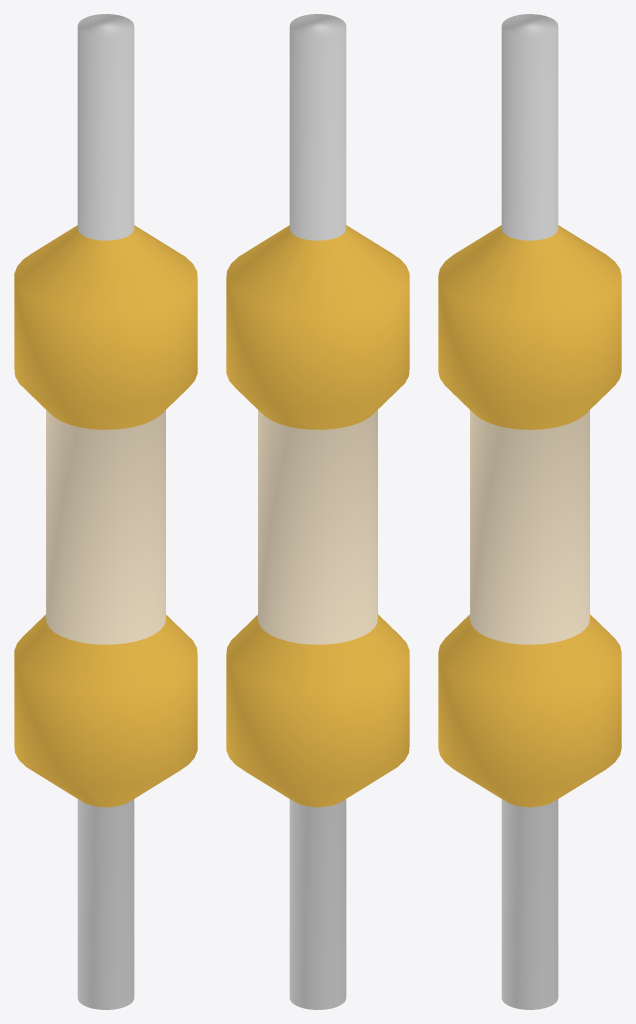
Rendered from resistencia.gltf.
The picture shows the model from 3 angles, left to right: view 1: azimuth 30°, elevation 25°; view 2: azimuth 150°, elevation 25°; view 3: azimuth 270°, elevation 25°; orthographic projection.
Visible parts, largest first — view 1: Cylinder; view 2: Cylinder; view 3: Cylinder.
Boxes of the visible parts, x1=… form: Cylinder: x1=14, y1=14, x2=197, y2=1009; Cylinder: x1=226, y1=14, x2=409, y2=1009; Cylinder: x1=438, y1=14, x2=621, y2=1009.
Size of the model in its own units: 0.3292 by 1.92 by 0.3292.
